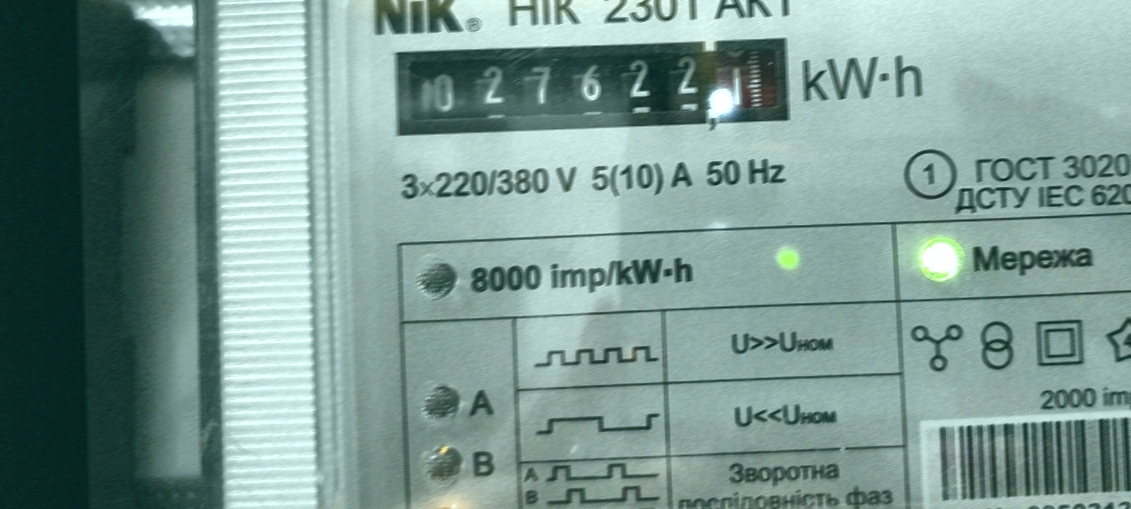0: (431, 70, 456, 113)
1: (728, 64, 745, 107)
2: (626, 57, 652, 99), (481, 63, 505, 106), (676, 53, 699, 95)
6: (579, 61, 602, 102)
7: (530, 64, 554, 107)
screen: (383, 27, 803, 142)
